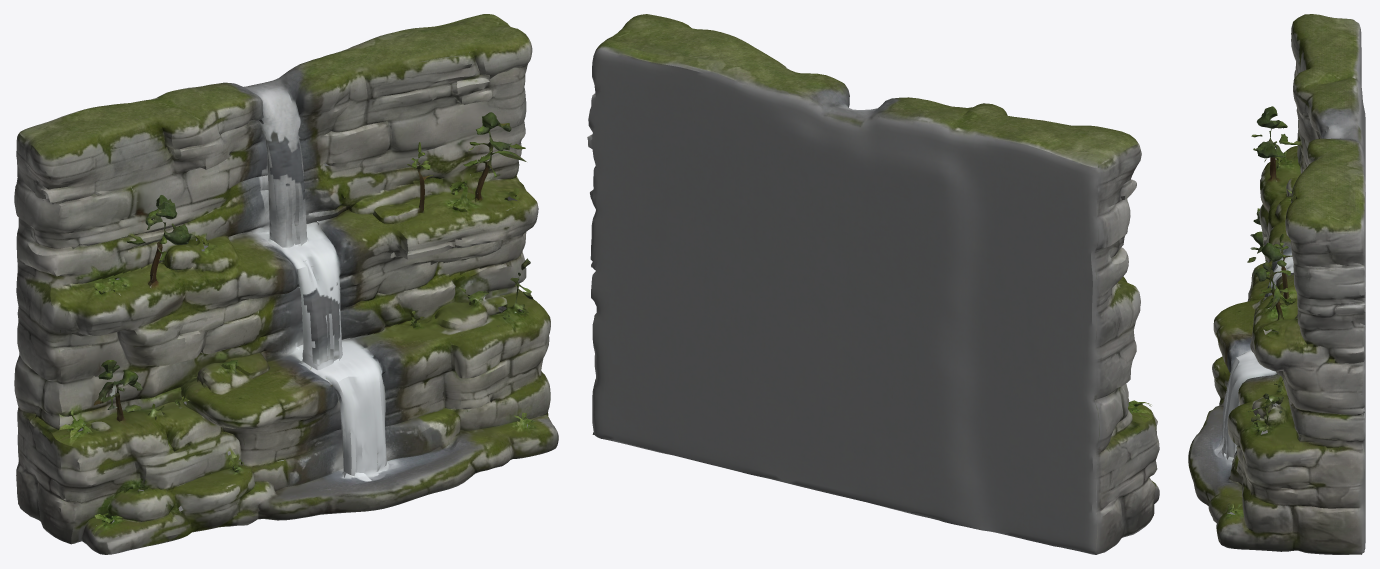
The model's file is veilfall_cliff_facade.glb.
3 renders of one model, left to right at view 1: azimuth 30°, elevation 25°; view 2: azimuth 150°, elevation 25°; view 3: azimuth 270°, elevation 25°, orthographic. The views are drawn at different scales.
Parts seen in each view (by area): view 1: Mesh_0; view 2: Mesh_0; view 3: Mesh_0.
Boxes of the visible parts, bbox=[...] form: Mesh_0: bbox=[14, 14, 558, 554]; Mesh_0: bbox=[587, 14, 1159, 554]; Mesh_0: bbox=[1188, 14, 1365, 554].
Size of the model in its own units: 1.9 by 1.4 by 0.6693.
1 material, 1 textured.
